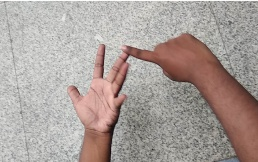u: (59, 42, 174, 129)
